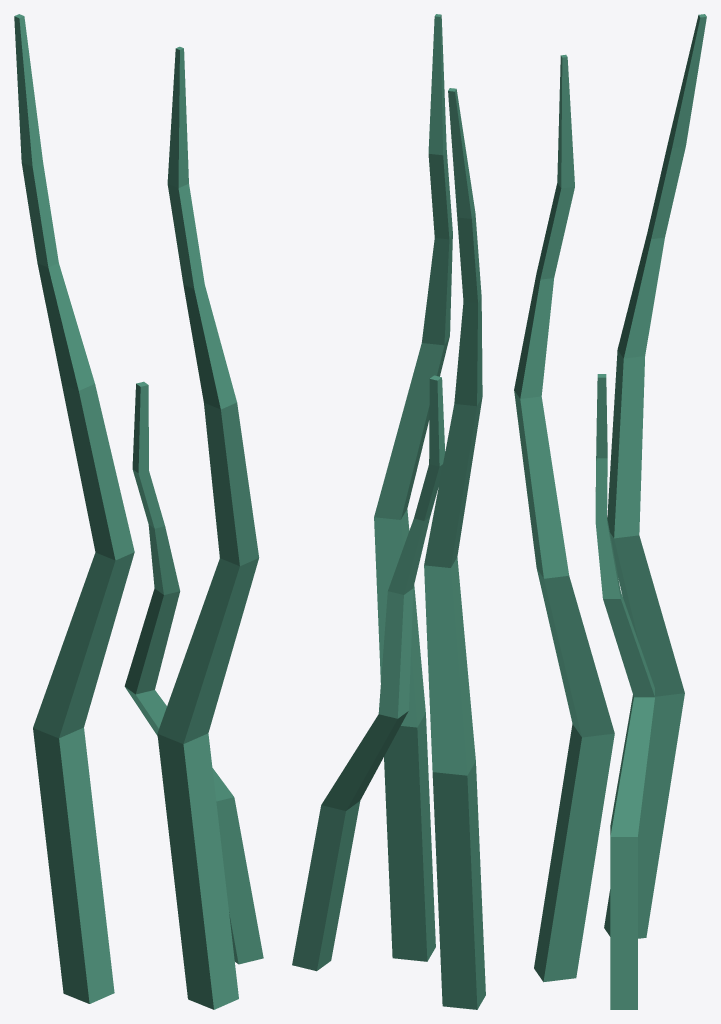
The model's file is AO_Plant01.fbx.
The picture shows the model from 3 angles, left to right: view 1: azimuth 30°, elevation 25°; view 2: azimuth 150°, elevation 25°; view 3: azimuth 270°, elevation 25°; orthographic projection. The views are drawn at different scales.
Visible parts, largest first — view 1: AO_Plant01; view 2: AO_Plant01; view 3: AO_Plant01.
Part boxes in pixels (x1,y1,x2,y2): AO_Plant01: [14, 14, 263, 1009]; AO_Plant01: [292, 14, 485, 1009]; AO_Plant01: [514, 14, 706, 1009].
Bounding box in the file's own units: 83.96 × 375 × 72.46.
Materials: 1 (1 with a texture image).
